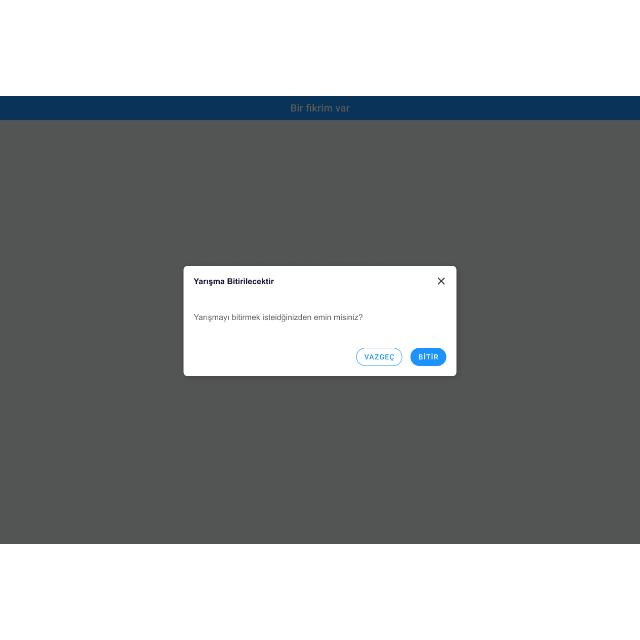QLabel: (191, 313, 363, 323), (192, 276, 274, 288), (362, 354, 394, 362), (417, 354, 439, 361)
VBtn: (356, 348, 402, 367), (409, 348, 446, 366)
VDialog: (184, 266, 456, 376)
VIcon: (436, 276, 446, 288)
